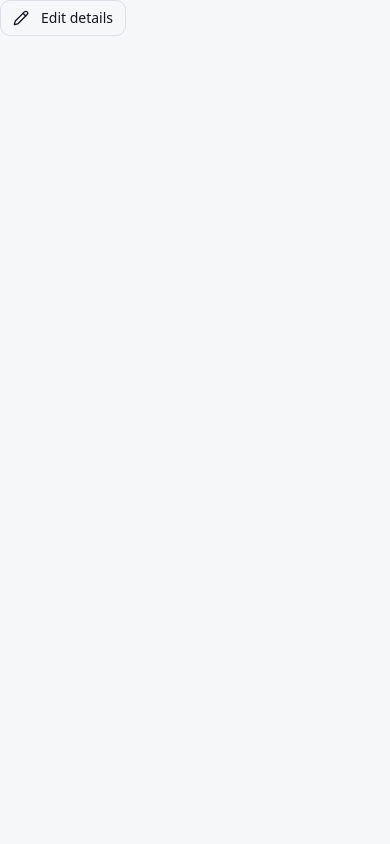
editing team contact details › offers Dr. as a title for anyone and previews the name the office will see
Later steps or results of the test are not shown.
Click the button "Edit details" at (63, 18), box [0,0,126,36]
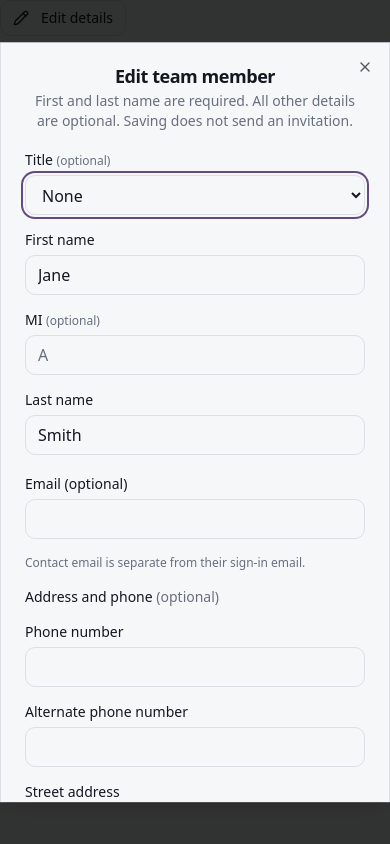
Now the dropdown labelled "Title (optional)" shows "None", box [25,175,365,215]
